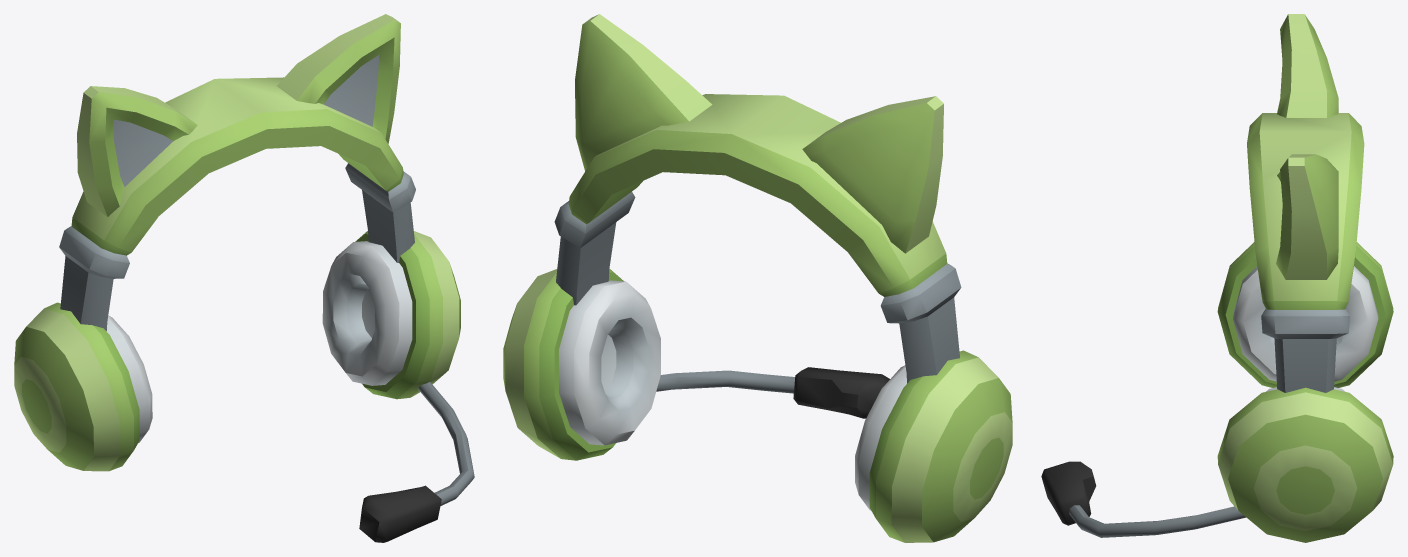
File: cat_headphones_D.gltf
The picture shows the model from 3 angles, left to right: view 1: azimuth 30°, elevation 25°; view 2: azimuth 150°, elevation 25°; view 3: azimuth 270°, elevation 25°; orthographic projection. The views are drawn at different scales.
Parts seen in each view (by area): view 1: cat_headphones_D; view 2: cat_headphones_D; view 3: cat_headphones_D.
Boxes of the visible parts, left/top/right/bottom form: cat_headphones_D: left=14, top=14, right=474, bottom=542; cat_headphones_D: left=503, top=14, right=1012, bottom=542; cat_headphones_D: left=1041, top=14, right=1393, bottom=542.
Bounding box in the file's own units: 1.37 × 1.29 × 1.02.
Materials: 1 (1 with a texture image).
